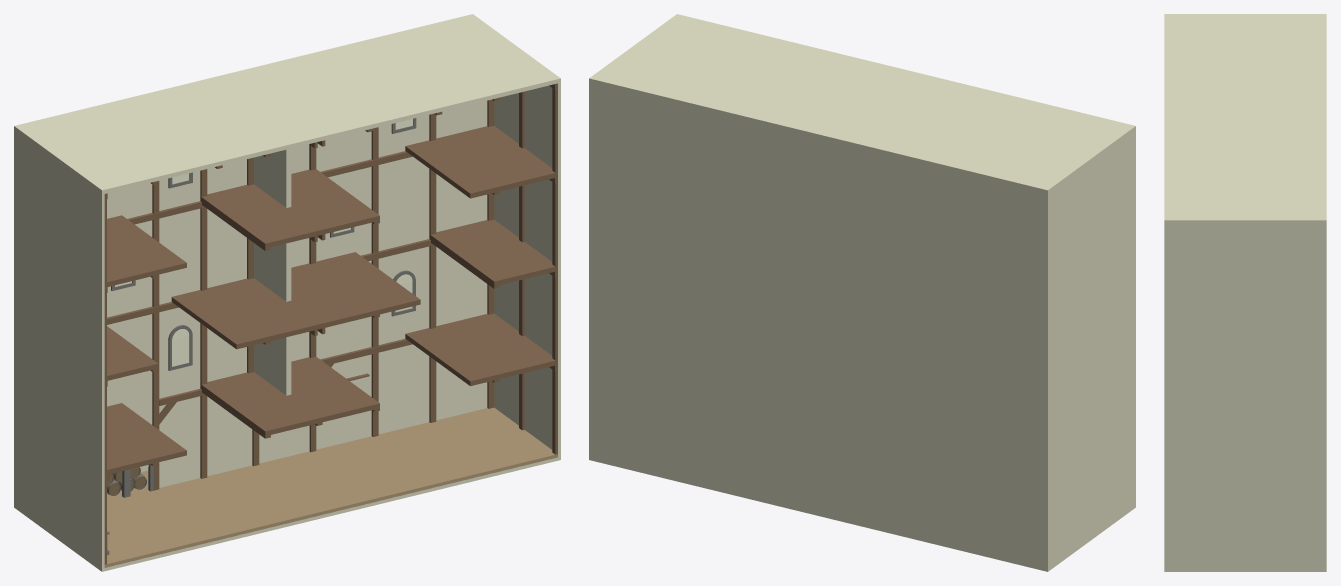
The model's file is tavern_building_v9.fbx.
3 renders of one model, left to right at view 1: azimuth 30°, elevation 25°; view 2: azimuth 150°, elevation 25°; view 3: azimuth 270°, elevation 25°, orthographic. The views are drawn at different scales.
Visible parts, largest first — view 1: building, wall_back1, ground, wall_back2, platform4, platform6, platform, platform3, platform8, platform5, platform7, platform2 (+17 smaller); view 2: building; view 3: building.
Part boxes in pixels (x1,y1,x2,y2): building: [14, 14, 560, 571]; wall_back1: [107, 100, 487, 406]; ground: [104, 407, 557, 567]; wall_back2: [128, 344, 487, 487]; platform4: [171, 252, 420, 349]; platform6: [200, 169, 379, 248]; platform: [200, 357, 379, 436]; platform3: [405, 313, 557, 386]; platform8: [405, 126, 557, 198]; platform5: [429, 219, 557, 286]; platform7: [104, 215, 186, 287]; platform2: [104, 403, 186, 475]; building: [589, 14, 1135, 571]; building: [1164, 14, 1326, 571].
Size of the model in its own units: 198 by 157 by 65.81.
